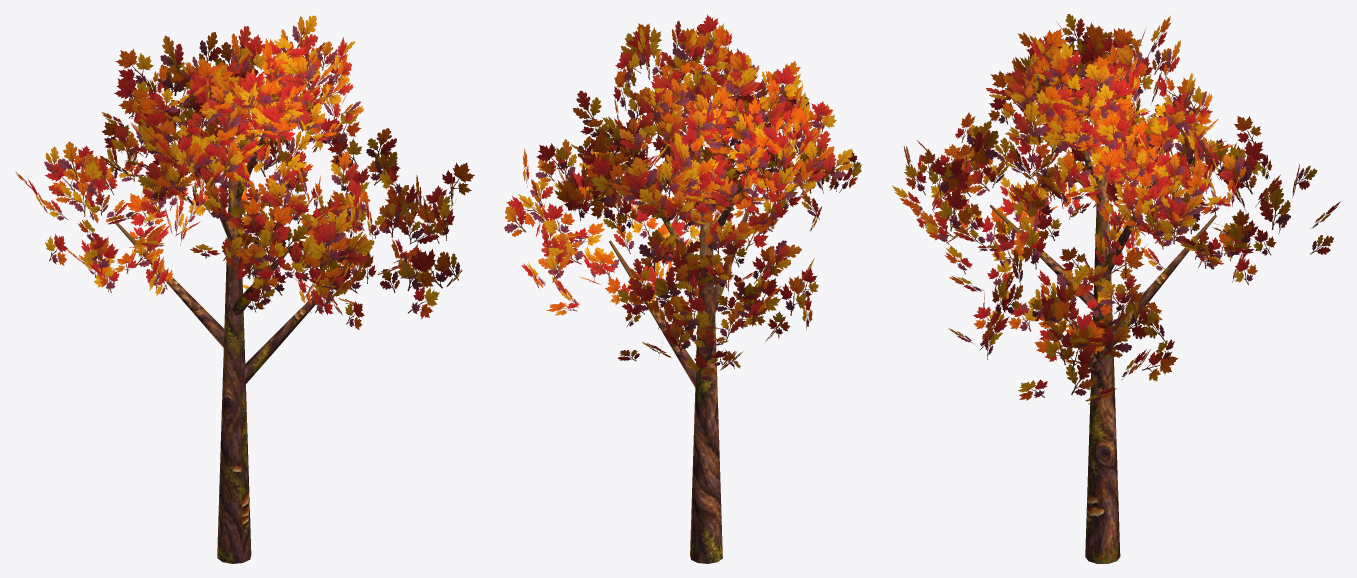
Rendered from autumn_tree.glb.
3 renders of one model, left to right at view 1: azimuth 30°, elevation 25°; view 2: azimuth 150°, elevation 25°; view 3: azimuth 270°, elevation 25°, orthographic. The views are drawn at different scales.
Visible parts, largest first — view 1: GEO-autumn_tree; view 2: GEO-autumn_tree; view 3: GEO-autumn_tree.
Boxes of the visible parts, x1,y1,x2,y2 form: GEO-autumn_tree: (15, 15, 474, 563); GEO-autumn_tree: (504, 14, 861, 563); GEO-autumn_tree: (891, 14, 1340, 563).
Size of the model in its own units: 3.36 by 4.71 by 3.61.
Materials: 2 (2 with a texture image).
